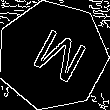M_SW: (20, 22, 85, 89)
